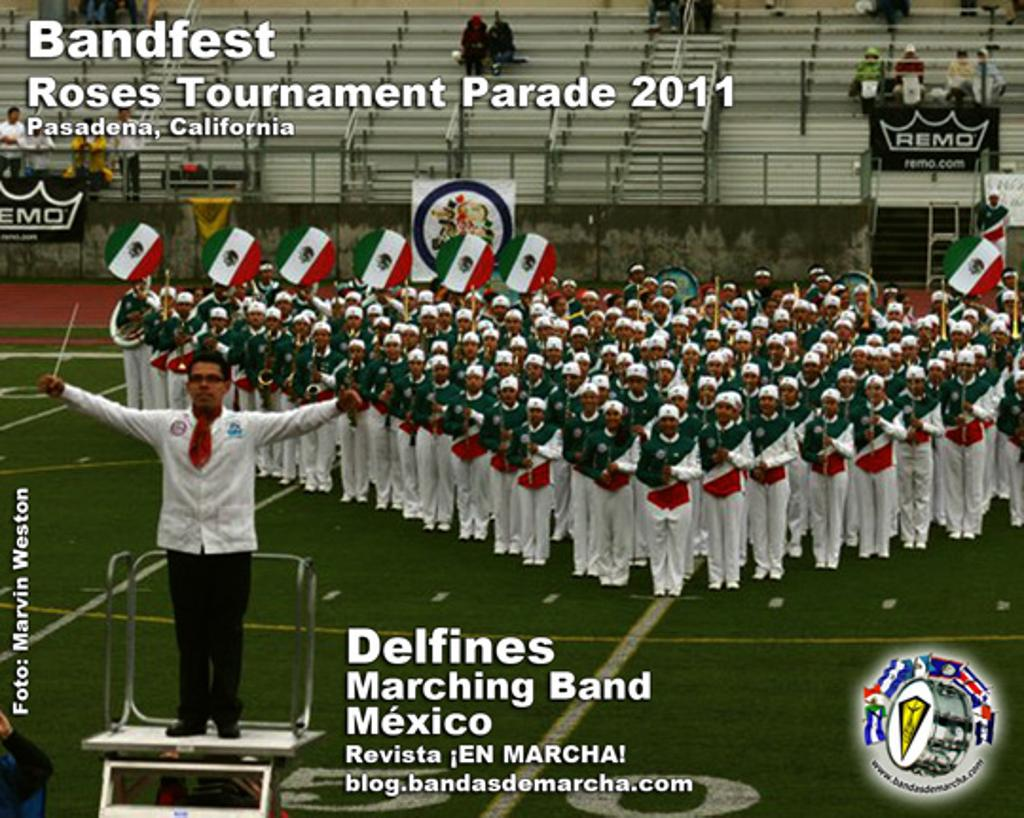face: (191, 363, 225, 408), (659, 413, 678, 437), (628, 375, 647, 396), (767, 342, 785, 364), (716, 401, 734, 423), (839, 376, 857, 397), (760, 394, 777, 415), (782, 336, 798, 358), (564, 373, 582, 392), (907, 376, 925, 395), (466, 373, 483, 393), (822, 396, 839, 416), (605, 409, 621, 430), (582, 392, 598, 412), (699, 384, 715, 404), (803, 361, 819, 381), (132, 278, 149, 296), (526, 362, 542, 381), (752, 325, 768, 344), (707, 359, 723, 378), (654, 302, 670, 321), (782, 384, 798, 403), (547, 345, 562, 365), (658, 367, 673, 387), (618, 362, 632, 383), (742, 372, 758, 390), (684, 348, 700, 366), (835, 324, 851, 342), (867, 384, 883, 402), (874, 356, 890, 374), (314, 330, 329, 349), (583, 295, 598, 314), (852, 351, 867, 370), (211, 316, 228, 332), (537, 326, 553, 343), (593, 384, 609, 401), (433, 365, 448, 383), (408, 358, 423, 376), (463, 340, 478, 358), (506, 317, 521, 335), (502, 387, 517, 405), (794, 307, 809, 325), (775, 315, 790, 333), (177, 302, 193, 318), (214, 284, 230, 300), (496, 360, 512, 376), (902, 344, 918, 360), (386, 342, 401, 359), (375, 324, 390, 341), (494, 304, 509, 321), (511, 346, 526, 363), (782, 300, 797, 317), (670, 395, 687, 410), (422, 314, 436, 332), (529, 407, 543, 425), (813, 350, 827, 368), (377, 287, 391, 305), (249, 311, 264, 327), (276, 300, 291, 316), (617, 325, 632, 341), (736, 337, 751, 353), (672, 322, 687, 338), (821, 337, 836, 353), (951, 331, 966, 347), (959, 362, 974, 378), (929, 366, 944, 382), (885, 292, 900, 308), (573, 333, 587, 350), (765, 303, 779, 320), (733, 305, 747, 322), (888, 327, 902, 344), (889, 351, 903, 368), (706, 303, 721, 318), (438, 312, 452, 328), (350, 347, 364, 363), (661, 283, 675, 299), (683, 314, 697, 330), (1005, 274, 1019, 290), (917, 325, 931, 341), (484, 336, 496, 354), (607, 315, 621, 330), (590, 316, 604, 331), (553, 326, 567, 341), (575, 360, 589, 375), (756, 274, 770, 289), (644, 280, 658, 295), (650, 345, 664, 360), (855, 293, 869, 308), (836, 291, 850, 306), (467, 298, 480, 314), (555, 299, 567, 316), (615, 299, 626, 317), (603, 353, 617, 367), (706, 338, 720, 352), (991, 330, 1005, 344), (458, 317, 471, 332), (404, 332, 417, 347), (348, 314, 361, 329), (973, 353, 986, 368), (724, 288, 736, 304), (641, 346, 653, 362), (295, 322, 308, 336), (266, 316, 279, 330), (161, 295, 175, 308), (402, 296, 415, 310), (889, 310, 902, 324), (1004, 299, 1017, 313), (901, 298, 911, 315), (632, 269, 645, 282), (629, 306, 642, 319), (563, 283, 576, 296), (818, 279, 831, 292), (868, 340, 881, 353), (368, 313, 380, 327), (347, 298, 359, 312), (532, 313, 544, 327), (546, 280, 558, 294), (633, 329, 645, 343), (773, 292, 785, 306), (939, 357, 951, 371), (193, 291, 204, 306), (261, 268, 273, 281), (827, 303, 839, 316), (964, 315, 976, 328), (647, 296, 658, 310), (689, 301, 700, 315), (935, 300, 946, 313), (811, 272, 823, 282), (990, 195, 999, 205), (11, 112, 20, 122)
